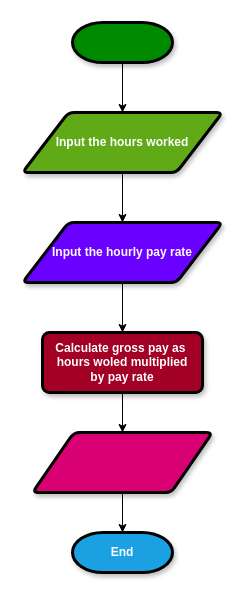
Image size: 247x598. Some labels were removed from this diagram. Each missing label, with the centre of its shape:
"Display the gross pay" goes at point (123, 463).
"Start" goes at point (123, 43).
